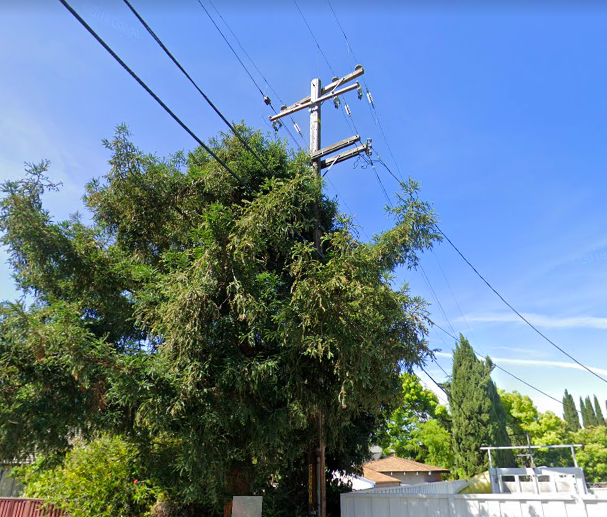utility_pole: (263, 59, 378, 178)
